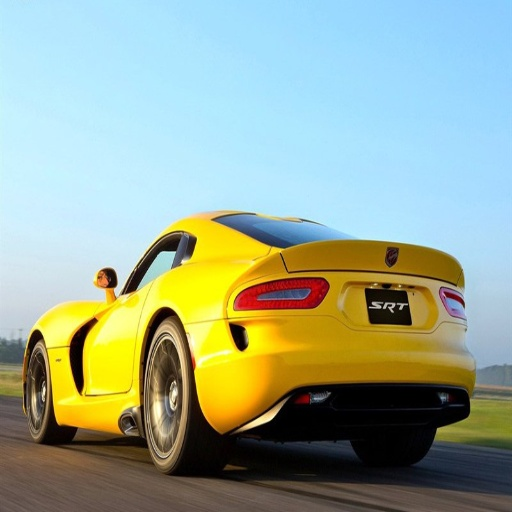back_bumper: (354, 316, 471, 421), (197, 338, 256, 419)
trunk: (240, 244, 454, 413)
